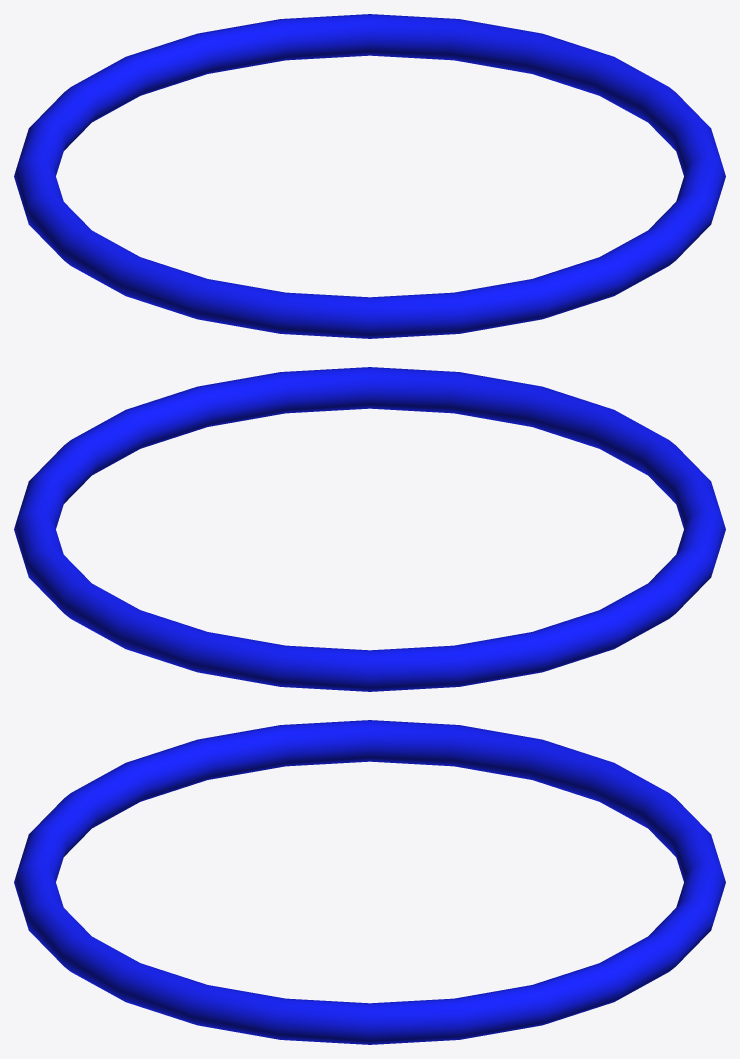
Rendered from Ring2P.FBX.
3 renders of one model, top to bottom at view 1: azimuth 30°, elevation 25°; view 2: azimuth 150°, elevation 25°; view 3: azimuth 270°, elevation 25°, orthographic.
Visible parts, largest first — view 1: Torus001; view 2: Torus001; view 3: Torus001.
Boxes of the visible parts, bbox=[...] form: Torus001: bbox=[14, 14, 725, 338]; Torus001: bbox=[14, 367, 725, 691]; Torus001: bbox=[14, 720, 725, 1044].
Size of the model in its own units: 160 by 160 by 9.38.
1 material, 1 textured.
